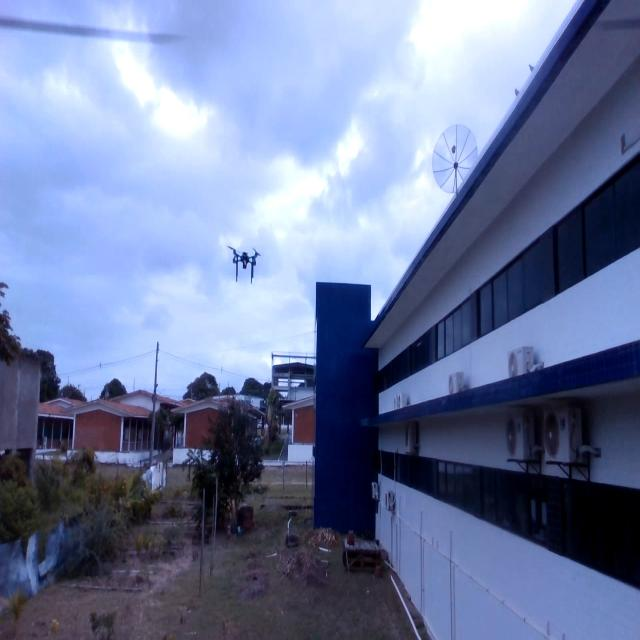-uav-: (221, 238, 272, 294)
